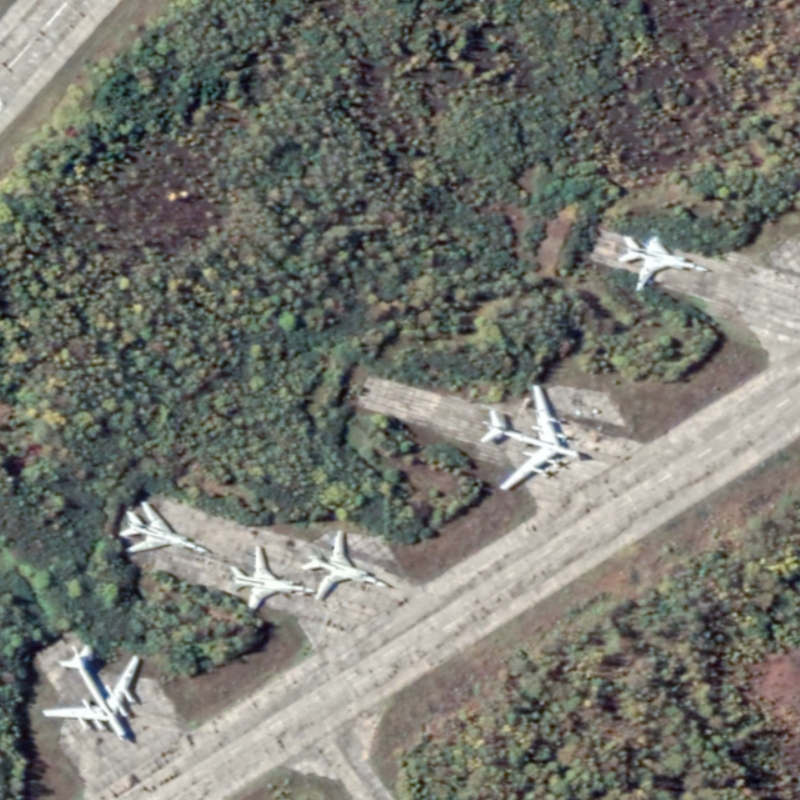A12: (298, 528, 394, 603), (614, 231, 714, 297), (228, 544, 320, 611), (115, 497, 213, 558)
A17: (475, 381, 593, 495), (40, 642, 146, 747)
